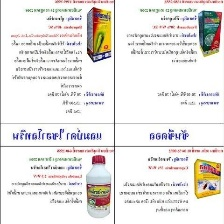book: (192, 156, 224, 200)
carton: (84, 5, 113, 66), (197, 7, 224, 58)
insecticide: (84, 153, 113, 219)
